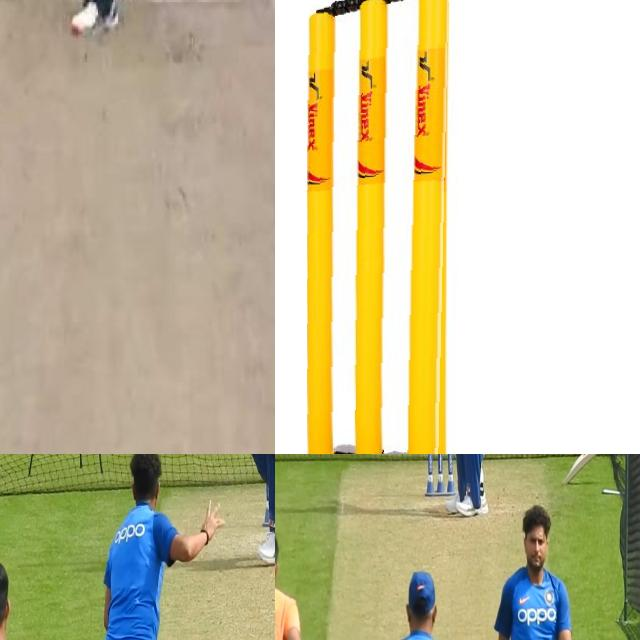Stumps: (307, 0, 449, 454), (423, 454, 454, 497)
